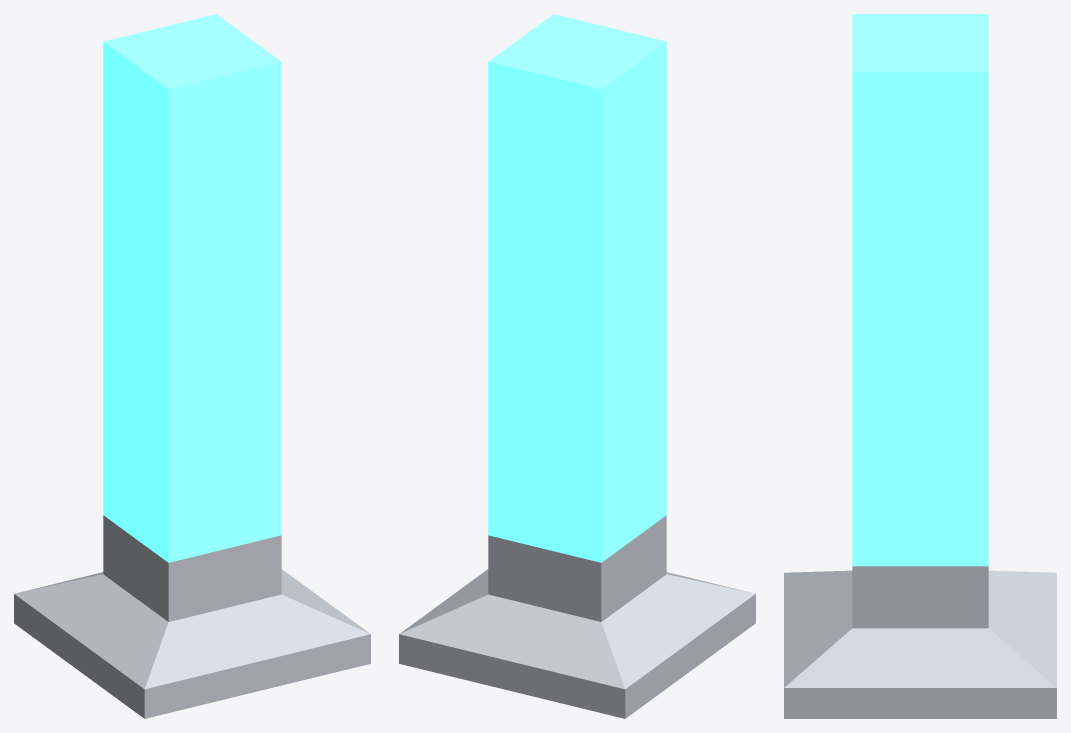
File: pipe_supportHigh.glb
3 views of the same model, side by side, from view 1: azimuth 30°, elevation 25°; view 2: azimuth 150°, elevation 25°; view 3: azimuth 270°, elevation 25° (orthographic). The views are drawn at different scales.
Visible parts, largest first — view 1: pipe_supportHigh; view 2: pipe_supportHigh; view 3: pipe_supportHigh.
Boxes of the visible parts, x1,y1,x2,y2 form: pipe_supportHigh: [14, 14, 370, 718]; pipe_supportHigh: [399, 14, 755, 718]; pipe_supportHigh: [784, 14, 1056, 718].
Bounding box in the file's own units: 0.4 × 1 × 0.4.
